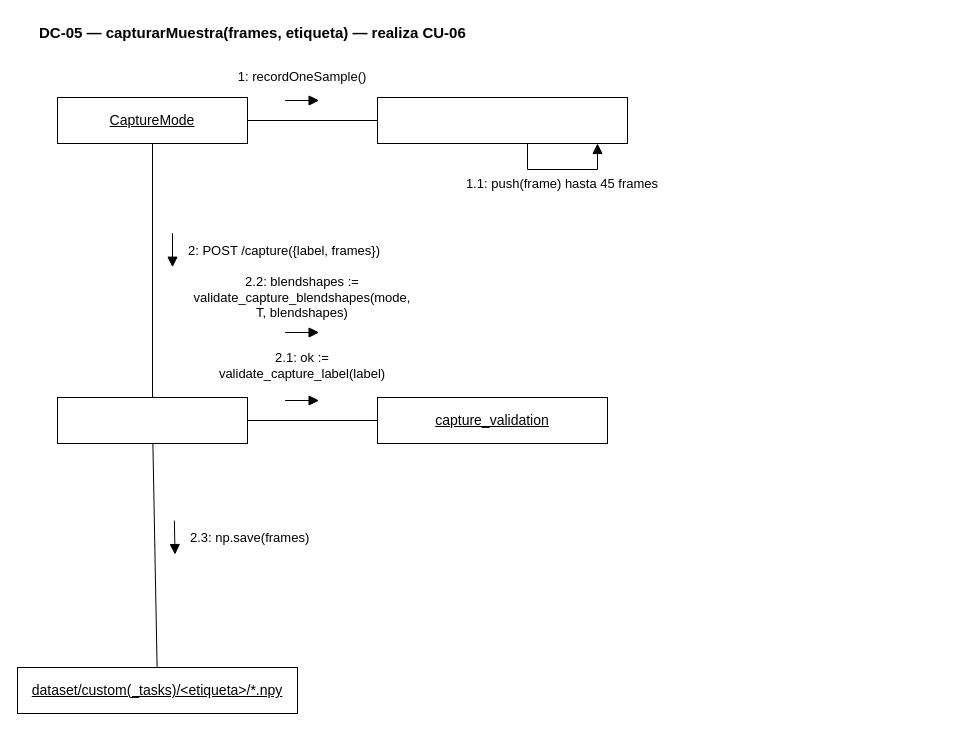
The diagram is 955 pixels wide and 731 high, and some of its shapes have lost their labels. Here are the shapes that lost their labels. From the top down, the box of each, then its label:
(376, 96, 628, 144): captureHandlerRef (frame handler)
(56, 396, 248, 444): capture : app.py
